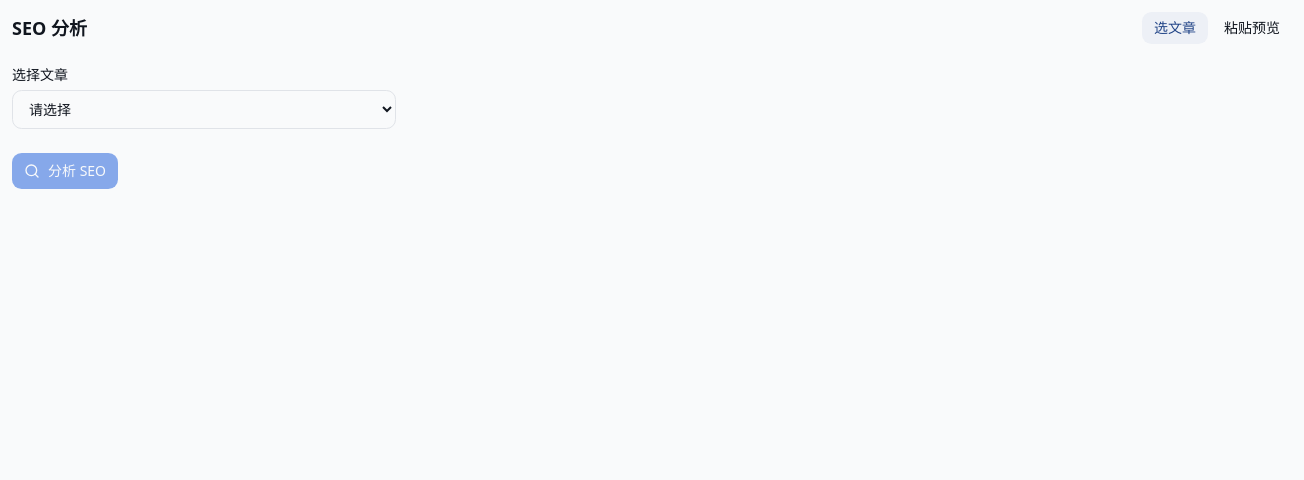
Test: SeoClient › 选文章 + 分析成功显示评分与建议
Select "文章甲" in the dropdown labelled "选择文章" at [204, 110], box x1=12 y1=90 x2=396 y2=129
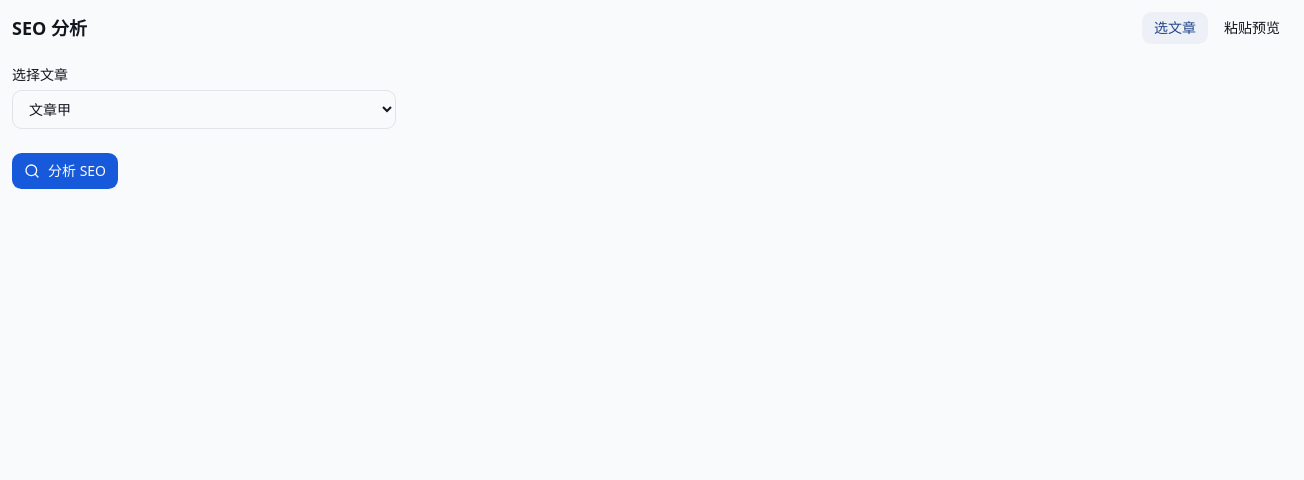
Click the button with test id "seo-analyze" at [65, 171], box x1=12 y1=153 x2=118 y2=189
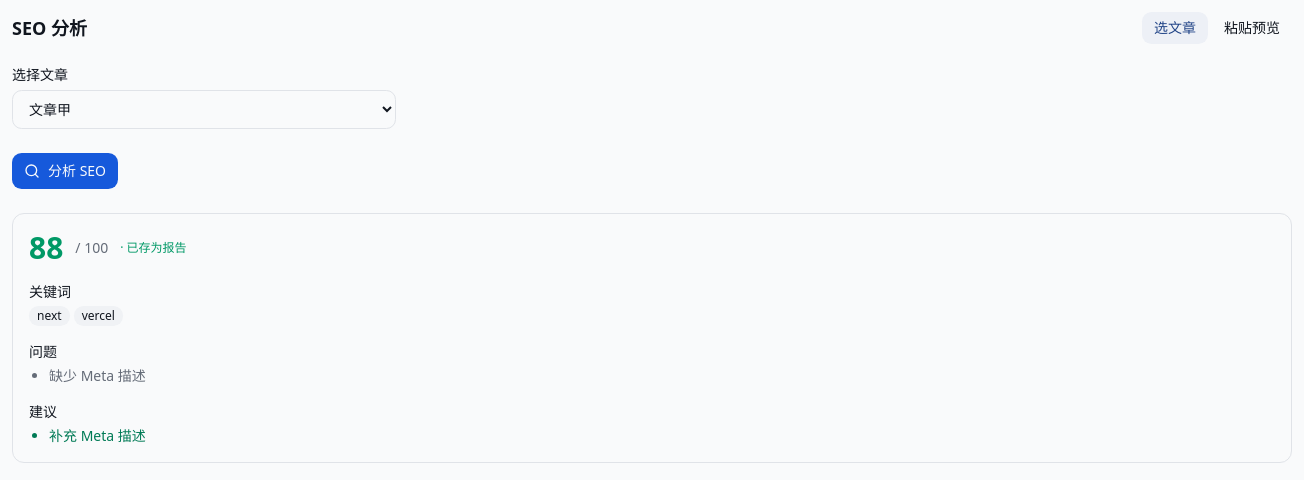
expect the text with test id "seo-score" reads "88": met, box x1=29 y1=227 x2=63 y2=268
expect the text "next" is shown: met, box x1=29 y1=306 x2=70 y2=326
expect the list item "缺少 Meta 描述" is shown: met, box x1=49 y1=366 x2=146 y2=385
